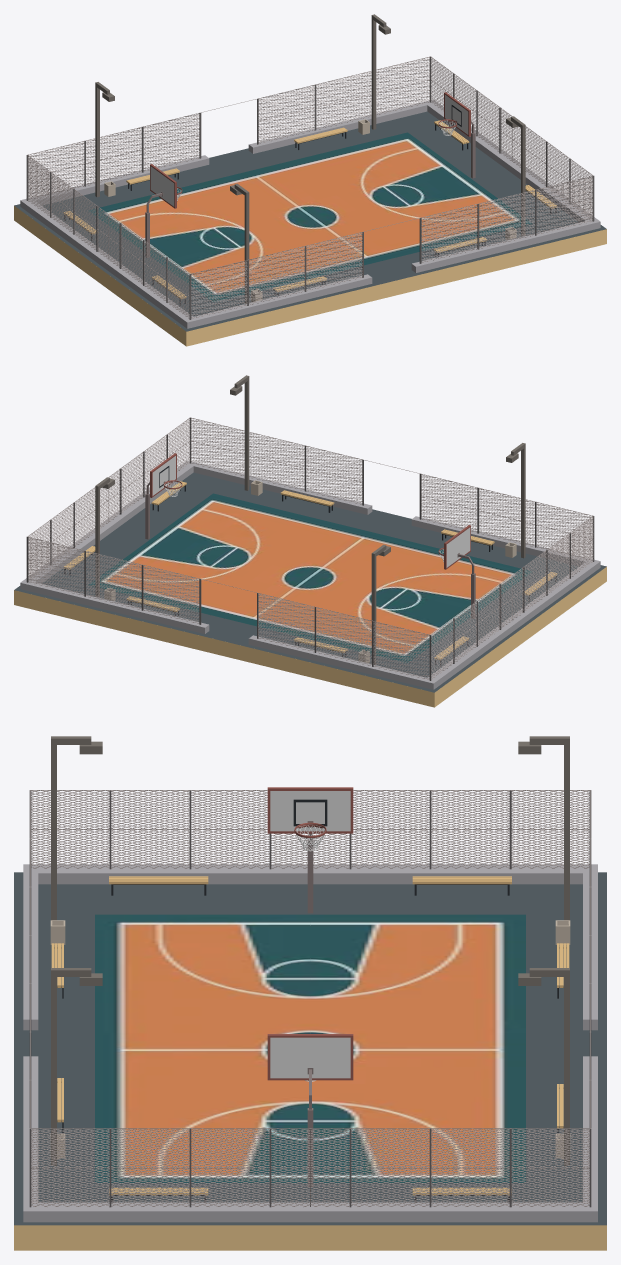
Rendered from basketball.glb.
The picture shows the model from 3 angles, top to bottom: view 1: azimuth 30°, elevation 25°; view 2: azimuth 150°, elevation 25°; view 3: azimuth 270°, elevation 25°; orthographic projection. The views are drawn at different scales.
Parts seen in each view (by area): view 1: Object_8, Object_17, Object_5, Object_6, Object_4, Object_19, Object_7, Object_21, Object_27, Object_24, Object_26, Object_28 (+1 smaller); view 2: Object_8, Object_17, Object_5, Object_6, Object_4, Object_19, Object_7, Object_21, Object_27, Object_24, Object_26, Object_28 (+1 smaller); view 3: Object_17, Object_8, Object_5, Object_6, Object_4, Object_19, Object_27, Object_7, Object_21, Object_28, Object_24, Object_26 (+1 smaller).
Boxes of the visible parts, x1,y1,x2,y2 form: Object_8: (27, 56, 593, 319); Object_17: (88, 132, 532, 301); Object_5: (14, 111, 606, 331); Object_6: (20, 99, 600, 328); Object_4: (14, 206, 606, 346); Object_19: (95, 14, 525, 303); Object_7: (26, 57, 594, 319); Object_21: (63, 120, 556, 299); Object_27: (150, 95, 468, 206); Object_24: (104, 119, 516, 302); Object_26: (145, 120, 475, 257); Object_28: (150, 92, 470, 208); Object_8: (27, 417, 593, 680); Object_17: (88, 493, 532, 662); Object_5: (14, 472, 606, 692); Object_6: (20, 460, 600, 689); Object_4: (14, 567, 606, 707); Object_19: (95, 375, 525, 664); Object_7: (26, 418, 594, 680); Object_21: (64, 481, 557, 660); Object_27: (152, 456, 470, 567); Object_24: (104, 480, 516, 663); Object_26: (145, 481, 475, 618); Object_28: (150, 453, 470, 569); Object_17: (95, 914, 525, 1182); Object_8: (30, 790, 590, 1206); Object_5: (14, 872, 606, 1225); Object_6: (23, 864, 597, 1222); Object_4: (14, 1225, 606, 1250); Object_19: (51, 736, 569, 1165); Object_27: (270, 791, 350, 1081); Object_7: (29, 790, 591, 1207); Object_21: (51, 876, 569, 1195); Object_28: (267, 787, 353, 1080); Object_24: (50, 920, 570, 1158); Object_26: (307, 821, 313, 1186).
Bounding box in the file's own units: 5.79 × 1.69 × 4.11.
13 materials, 1 textured.
